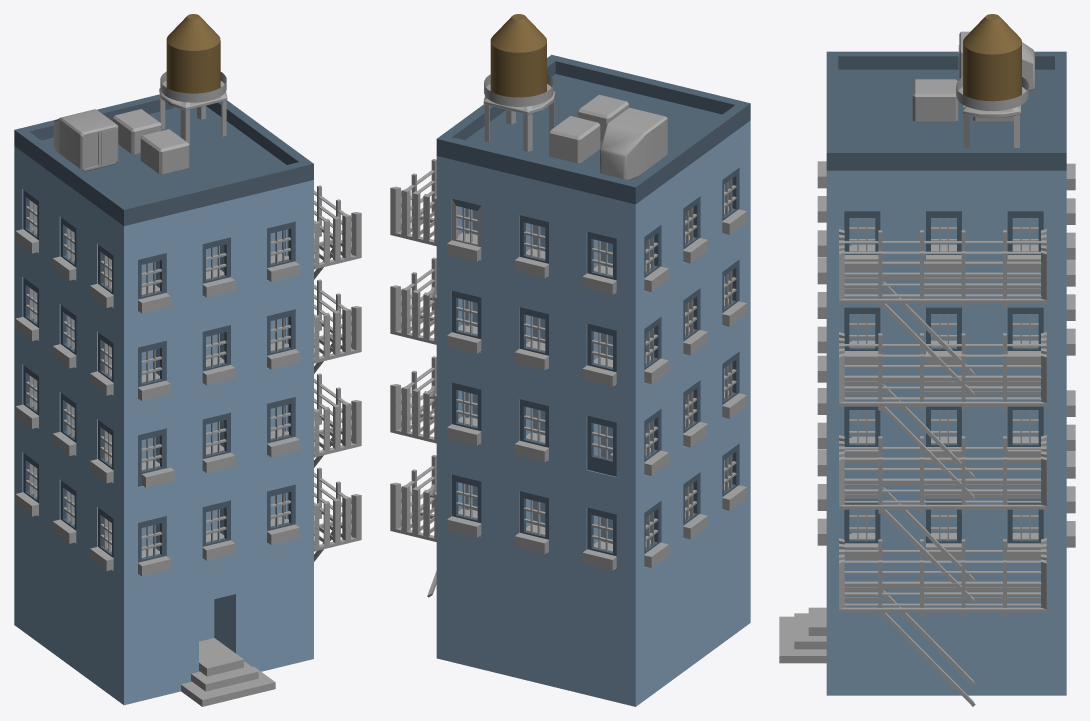
File: BuildingA_Refined.fbx
The picture shows the model from 3 angles, left to right: view 1: azimuth 30°, elevation 25°; view 2: azimuth 150°, elevation 25°; view 3: azimuth 270°, elevation 25°; orthographic projection. The views are drawn at different scales.
Parts seen in each view (by area): view 1: building_1; view 2: building_1; view 3: building_1.
Boxes of the visible parts, bbox=[...] form: building_1: bbox=[14, 14, 361, 706]; building_1: bbox=[390, 14, 750, 706]; building_1: bbox=[779, 14, 1075, 706].
Size of the model in its own units: 1057 by 2413 by 989.
